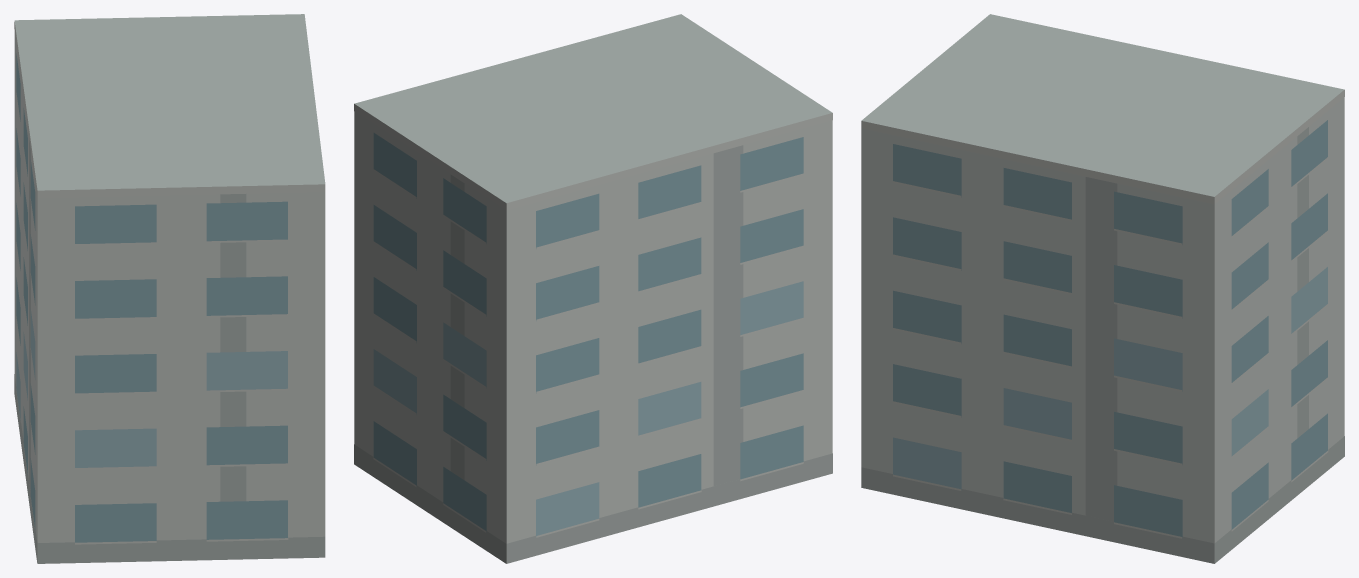
File: survey-upis-33036645.glb
3 views of the same model, side by side, from view 1: azimuth 30°, elevation 25°; view 2: azimuth 150°, elevation 25°; view 3: azimuth 270°, elevation 25° (orthographic). The views are drawn at different scales.
Parts seen in each view (by area): view 1: survey-upis-33036645.tmp; view 2: survey-upis-33036645.tmp; view 3: survey-upis-33036645.tmp.
Part boxes in pixels (x1,y1,x2,y2): survey-upis-33036645.tmp: [14, 14, 325, 563]; survey-upis-33036645.tmp: [354, 14, 832, 563]; survey-upis-33036645.tmp: [861, 14, 1344, 563].
Size of the model in its own units: 12.52 by 11.7 by 13.98.
